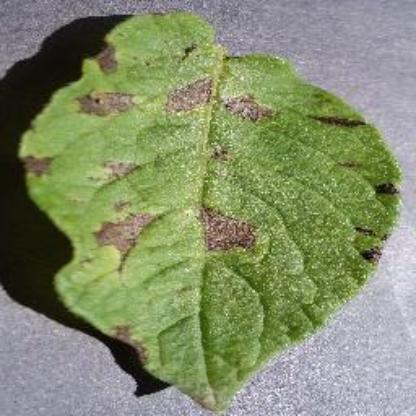Early-Blight: (16, 8, 404, 412)
